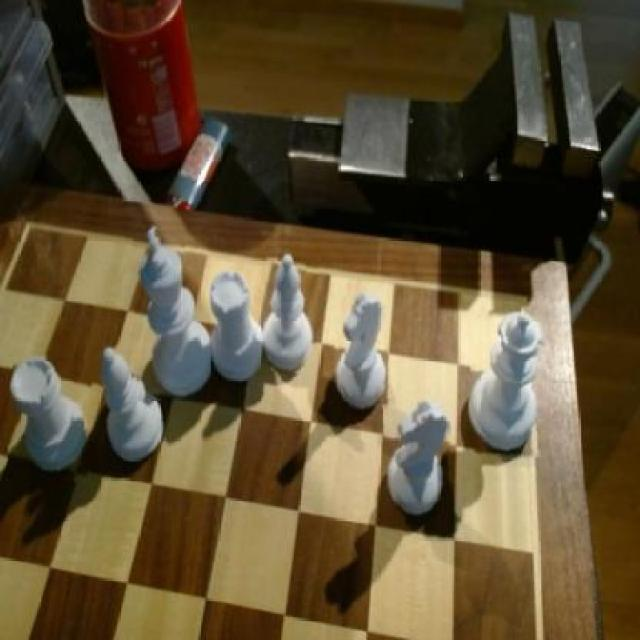black-rook: (98, 345, 166, 462), (262, 248, 318, 374)
white-bishop: (134, 228, 211, 399)
white-king: (383, 400, 452, 521), (334, 292, 391, 420)
white-pawn: (469, 306, 548, 459)
white-queen: (9, 354, 92, 481), (208, 270, 270, 392)
